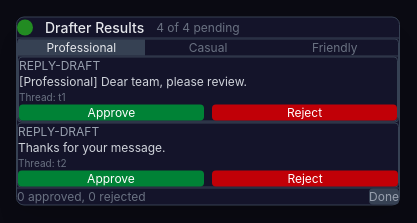
it: ResultsOverlay - Drafter tone variants (Spec 07) › clicking tone tab switches the active variant
Expected: the text "[Professional] Dear team, please review." is shown, [19,74,247,88]
# Click second tone tab (Casual)
Click the button "Casual": (208, 48) [145,40,271,56]
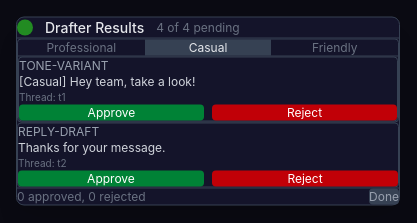
Result: the text "[Casual] Hey team, take a look!" is shown at [19,74,195,88]
